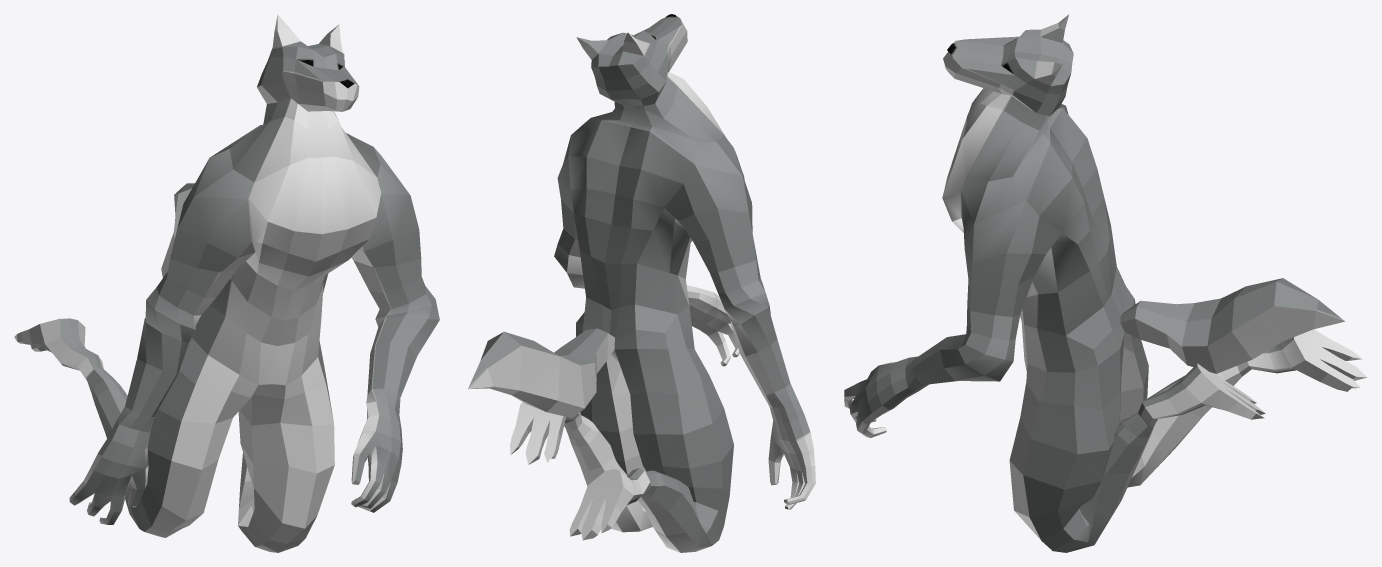
File: WolfDead(49).obj
3 views of the same model, side by side, from view 1: azimuth 30°, elevation 25°; view 2: azimuth 150°, elevation 25°; view 3: azimuth 270°, elevation 25° (orthographic). The views are drawn at different scales.
Visible parts, largest first — view 1: Box001; view 2: Box001; view 3: Box001.
Part boxes in pixels (x1,y1,x2,y2): Box001: (14,14,439,552); Box001: (468,14,815,552); Box001: (844,14,1367,552).
Size of the model in its own units: 75.47 by 121 by 107.
